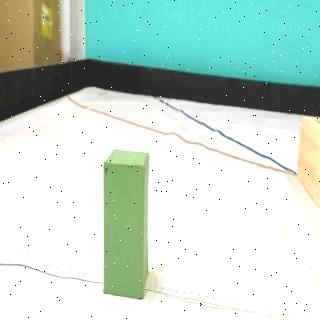greenbox: (102, 147, 149, 300)
